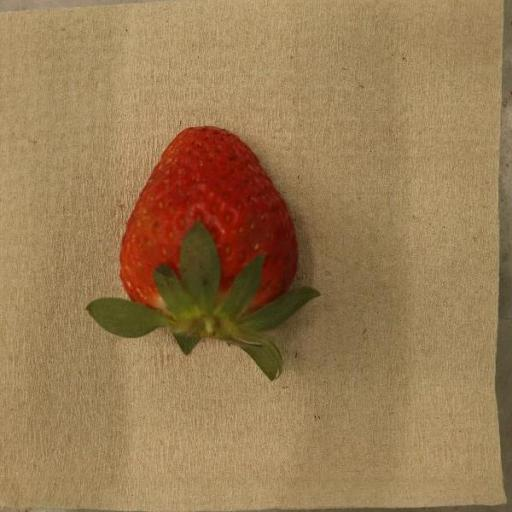Strawberry: (86, 126, 320, 382)
